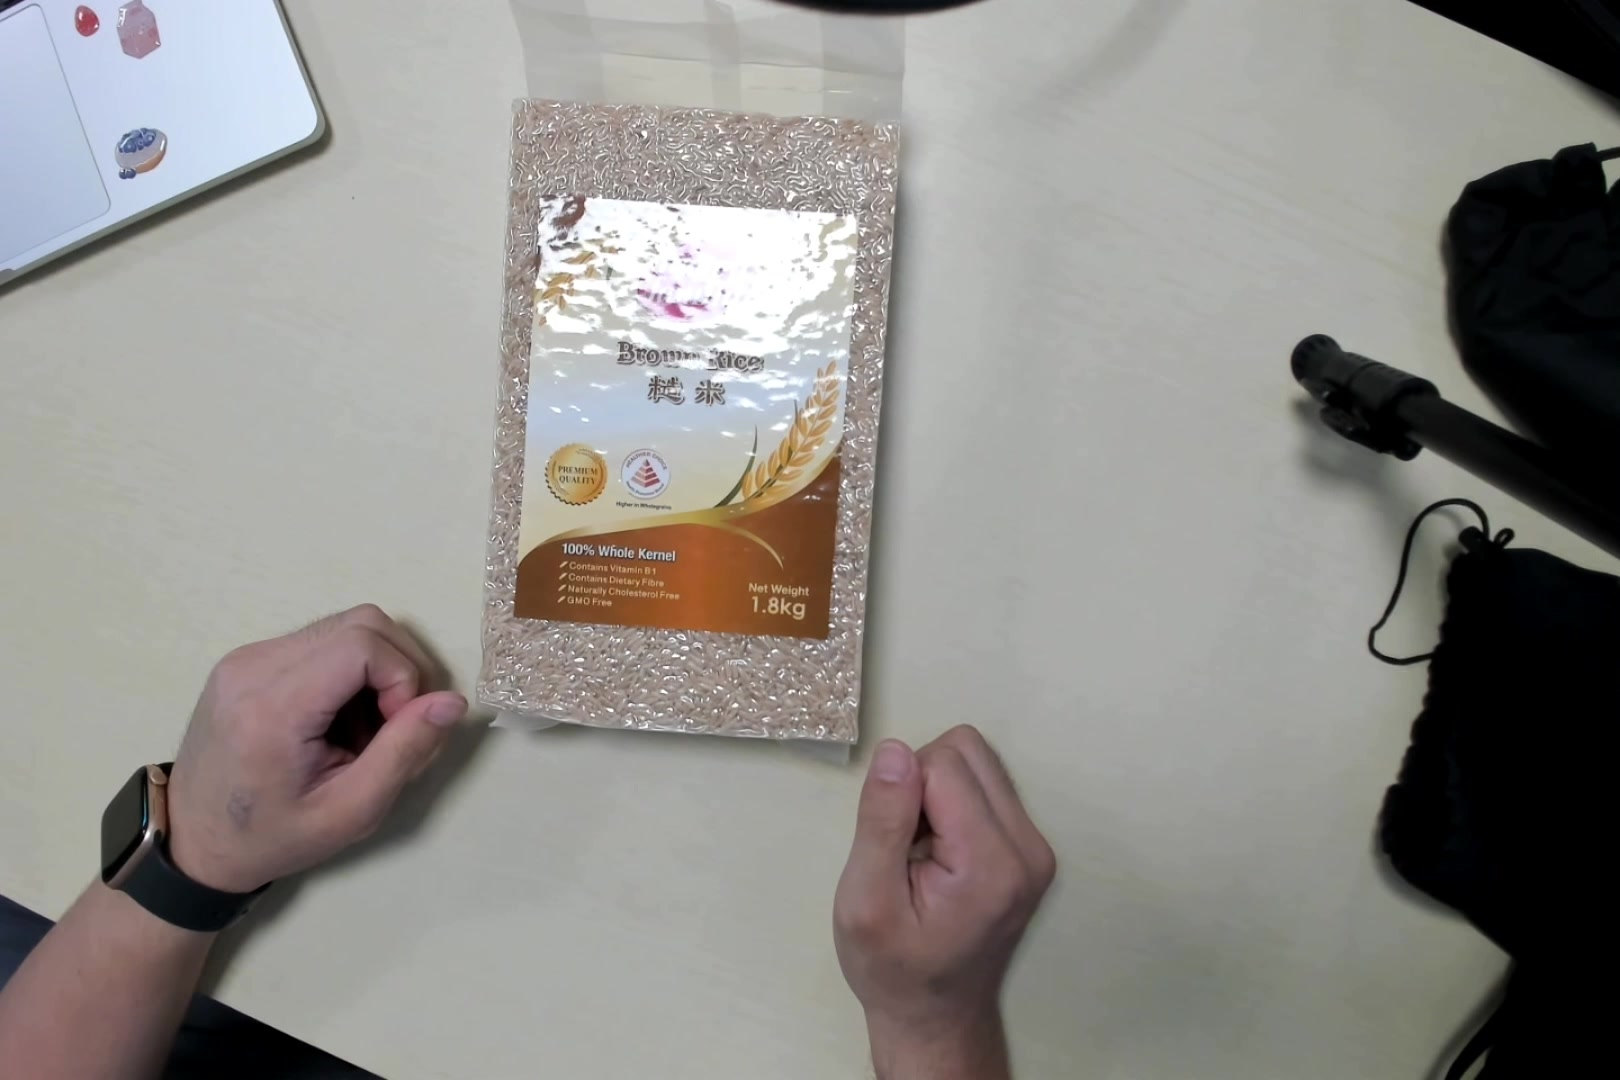Rice(BrownOthers)_1000-1999g_NonHalal_Healthy: (488, 4, 886, 745)
